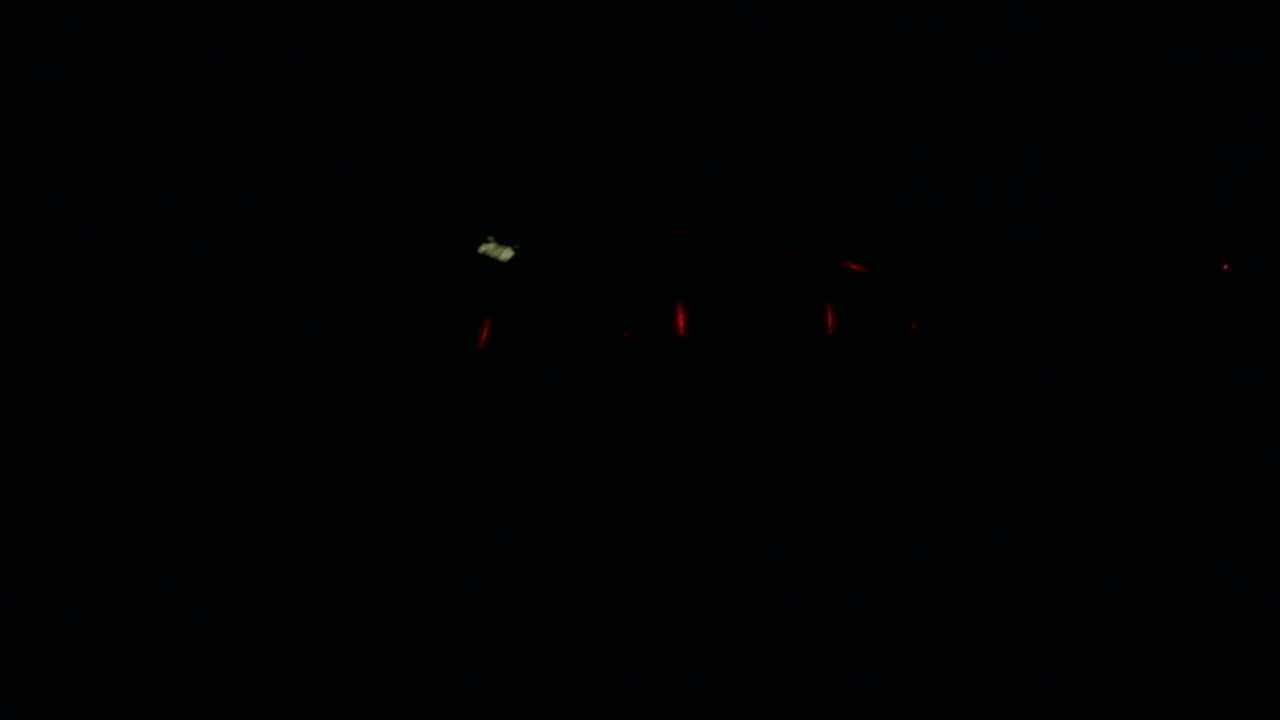lamp: (471, 302, 492, 345), (669, 298, 689, 335), (822, 299, 840, 336)
notpair2: (474, 301, 689, 348)
pair2: (668, 299, 841, 336)
